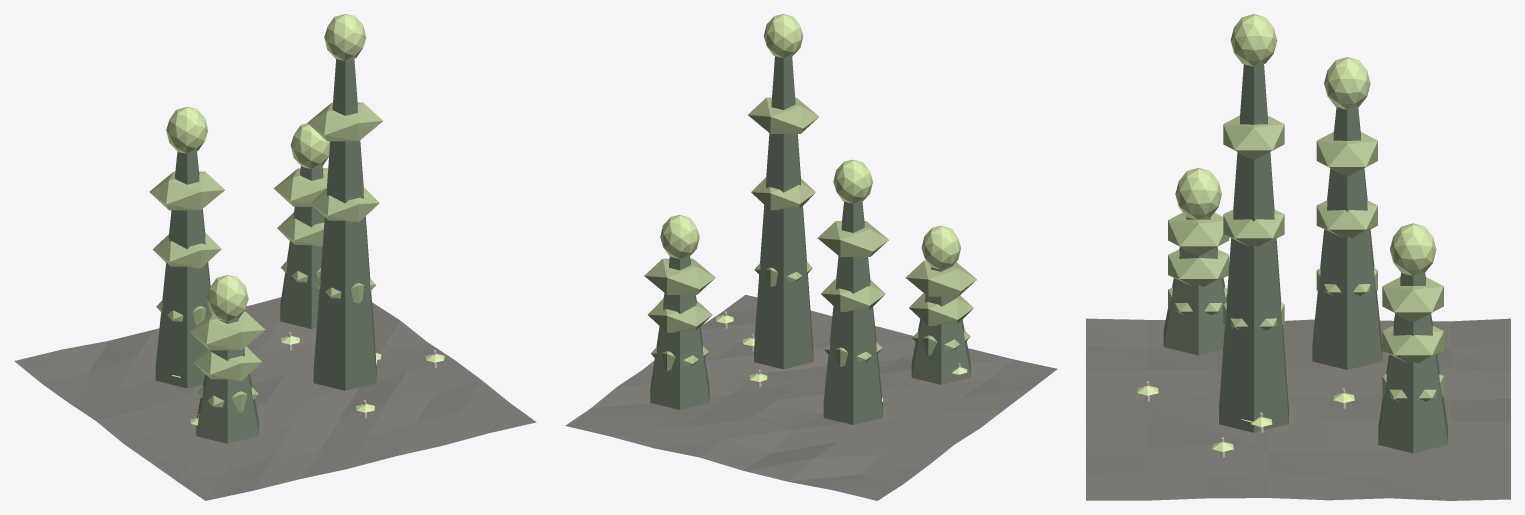
The model's file is hunger_moss_spires.glb.
3 renders of one model, left to right at view 1: azimuth 30°, elevation 25°; view 2: azimuth 150°, elevation 25°; view 3: azimuth 270°, elevation 25°, orthographic. The views are drawn at different scales.
Parts seen in each view (by area): view 1: material_00, material_01, material_02, material_03; view 2: material_00, material_01, material_02, material_03; view 3: material_00, material_01, material_02, material_03.
Boxes of the visible parts, x1,y1,x2,y2 form: material_00: (14, 297, 536, 500); material_01: (155, 58, 376, 443); material_02: (149, 102, 382, 412); material_03: (166, 14, 444, 425); material_00: (565, 294, 1057, 500); material_01: (650, 56, 970, 424); material_02: (644, 97, 976, 370); material_03: (660, 14, 967, 401); material_00: (1086, 318, 1510, 500); material_01: (1163, 64, 1447, 453); material_02: (1168, 115, 1443, 401); material_03: (1137, 14, 1436, 451).
Size of the model in its own units: 2 by 2.21 by 2.
